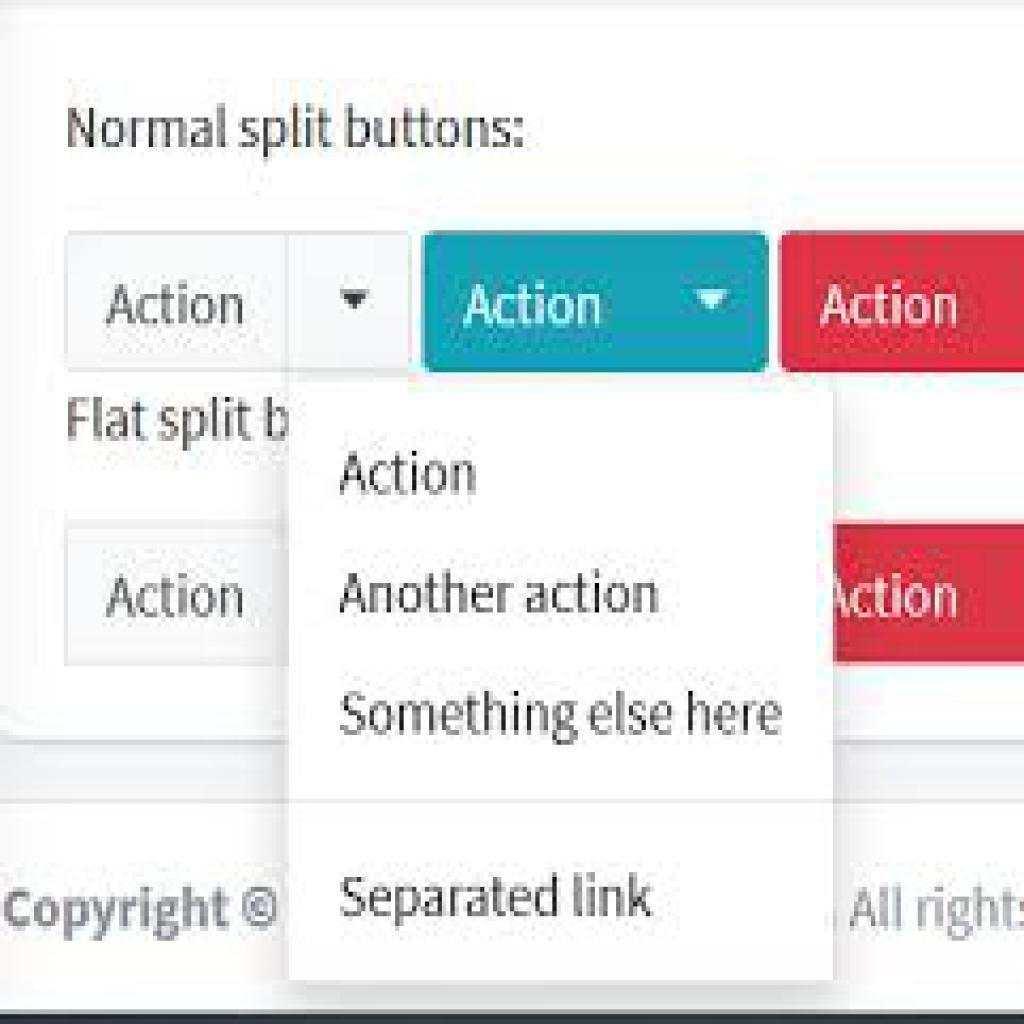dropdown: (423, 233, 767, 372), (66, 234, 411, 368)
